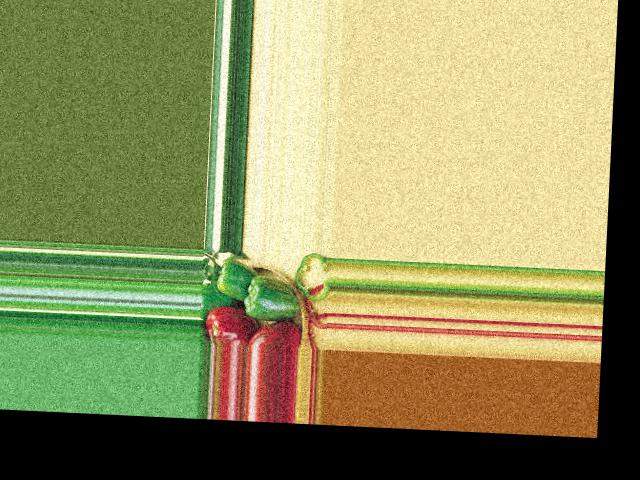bell_pepper: (247, 321, 301, 347)
